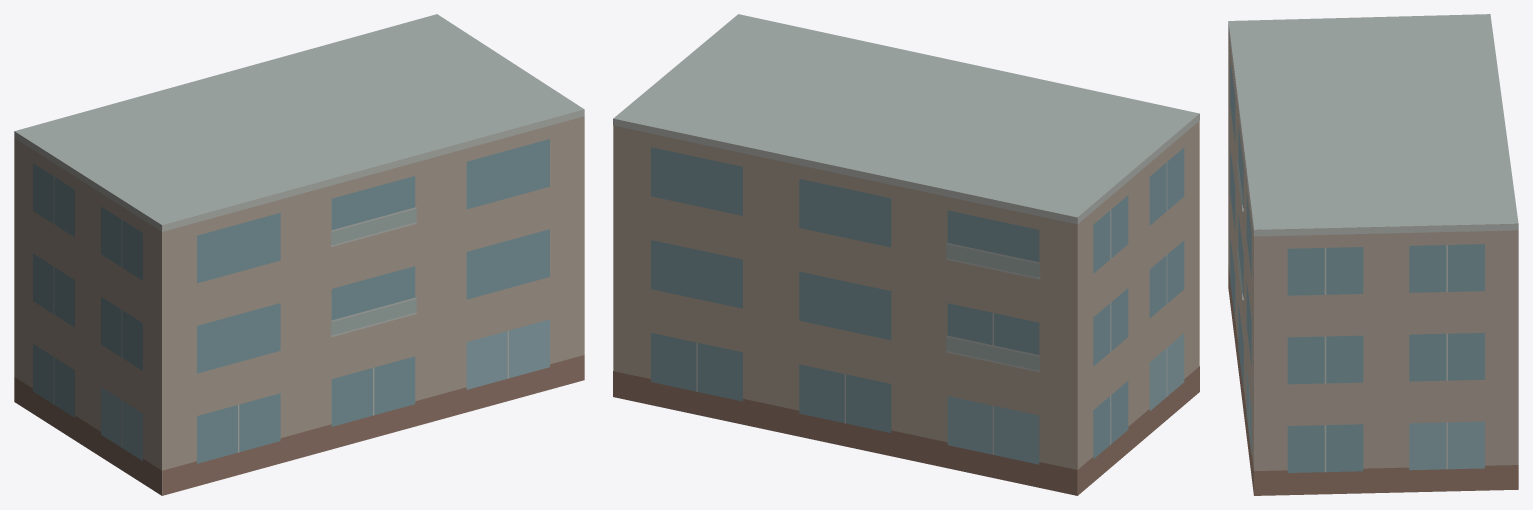
Rendered from survey-upis-32913133.glb.
3 renders of one model, left to right at view 1: azimuth 30°, elevation 25°; view 2: azimuth 150°, elevation 25°; view 3: azimuth 270°, elevation 25°, orthographic. The views are drawn at different scales.
Visible parts, largest first — view 1: survey-upis-32913133.tmp; view 2: survey-upis-32913133.tmp; view 3: survey-upis-32913133.tmp.
Boxes of the visible parts, box(x1,y1,x2,y2) form: survey-upis-32913133.tmp: box(14, 14, 584, 495); survey-upis-32913133.tmp: box(613, 14, 1199, 495); survey-upis-32913133.tmp: box(1228, 14, 1518, 495).
Size of the model in its own units: 16.98 by 9.75 by 9.65.
